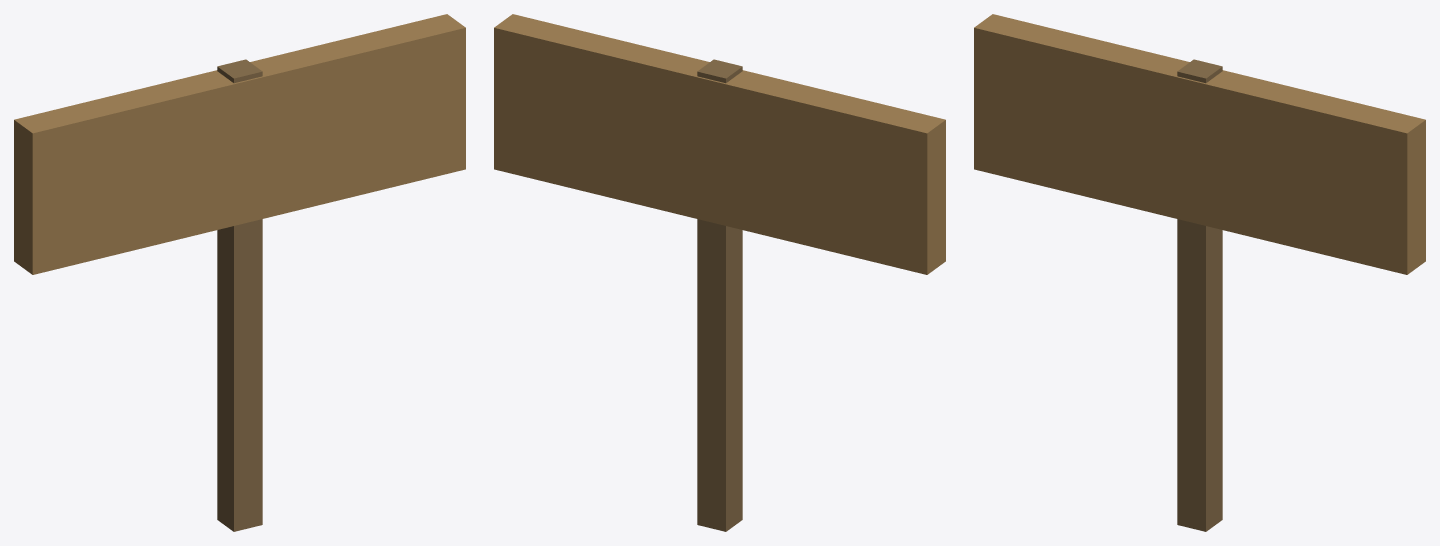
File: sign.glb
3 views of the same model, side by side, from view 1: azimuth 30°, elevation 25°; view 2: azimuth 150°, elevation 25°; view 3: azimuth 330°, elevation 25° (orthographic).
Visible parts, largest first — view 1: world; view 2: world; view 3: world.
Part boxes in pixels (x1=…): world: x1=14, y1=14, x2=465, y2=531; world: x1=494, y1=14, x2=945, y2=531; world: x1=974, y1=14, x2=1425, y2=531.
Bounding box in the file's own units: 2.4 × 2.4 × 0.18.
